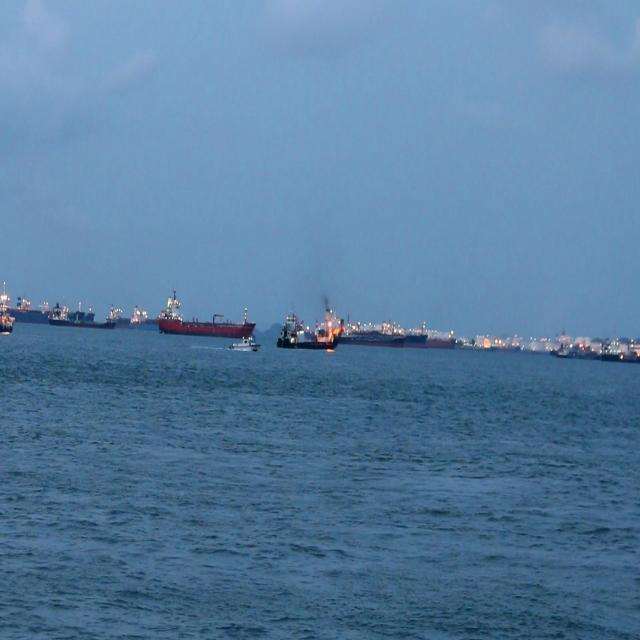CIV_Ship: (278, 306, 349, 349)
